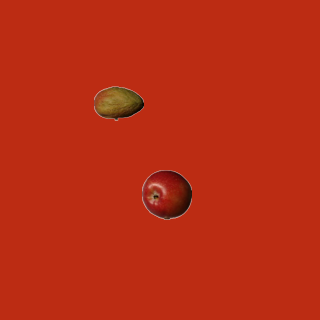Apple Braeburn: (141, 169, 191, 219)
Papaya: (93, 78, 143, 128)
